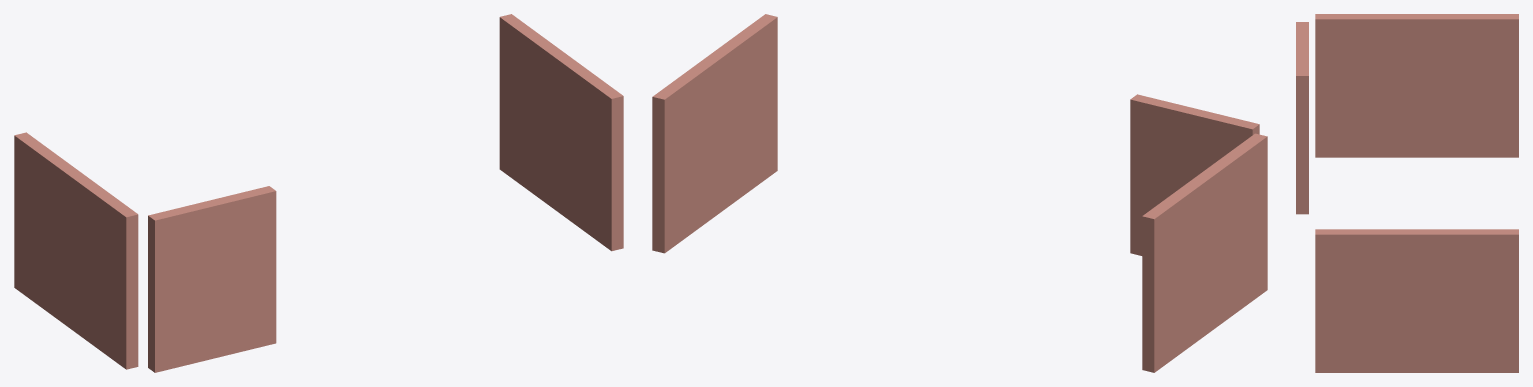
The model's file is blockers_mountain_01.glb.
3 renders of one model, left to right at view 1: azimuth 30°, elevation 25°; view 2: azimuth 150°, elevation 25°; view 3: azimuth 270°, elevation 25°, orthographic. The views are drawn at different scales.
Visible parts, largest first — view 1: BLOCKER_Mountain_01_BackCliff, BLOCKER_Mountain_01_LeftCliff, BLOCKER_Mountain_01_RightCliff; view 2: BLOCKER_Mountain_01_LeftCliff, BLOCKER_Mountain_01_RightCliff, BLOCKER_Mountain_01_BackCliff; view 3: BLOCKER_Mountain_01_LeftCliff, BLOCKER_Mountain_01_RightCliff, BLOCKER_Mountain_01_BackCliff.
Boxes of the visible parts, x1,y1,x2,y2 form: BLOCKER_Mountain_01_BackCliff: [148, 186, 276, 372]; BLOCKER_Mountain_01_LeftCliff: [14, 132, 138, 369]; BLOCKER_Mountain_01_RightCliff: [499, 14, 623, 251]; BLOCKER_Mountain_01_LeftCliff: [1142, 133, 1267, 372]; BLOCKER_Mountain_01_RightCliff: [652, 14, 777, 253]; BLOCKER_Mountain_01_BackCliff: [1130, 94, 1259, 255]; BLOCKER_Mountain_01_LeftCliff: [1315, 14, 1518, 157]; BLOCKER_Mountain_01_RightCliff: [1315, 229, 1518, 372]; BLOCKER_Mountain_01_BackCliff: [1296, 22, 1308, 214].
Size of the model in its own units: 20.5 by 6 by 8.75.
